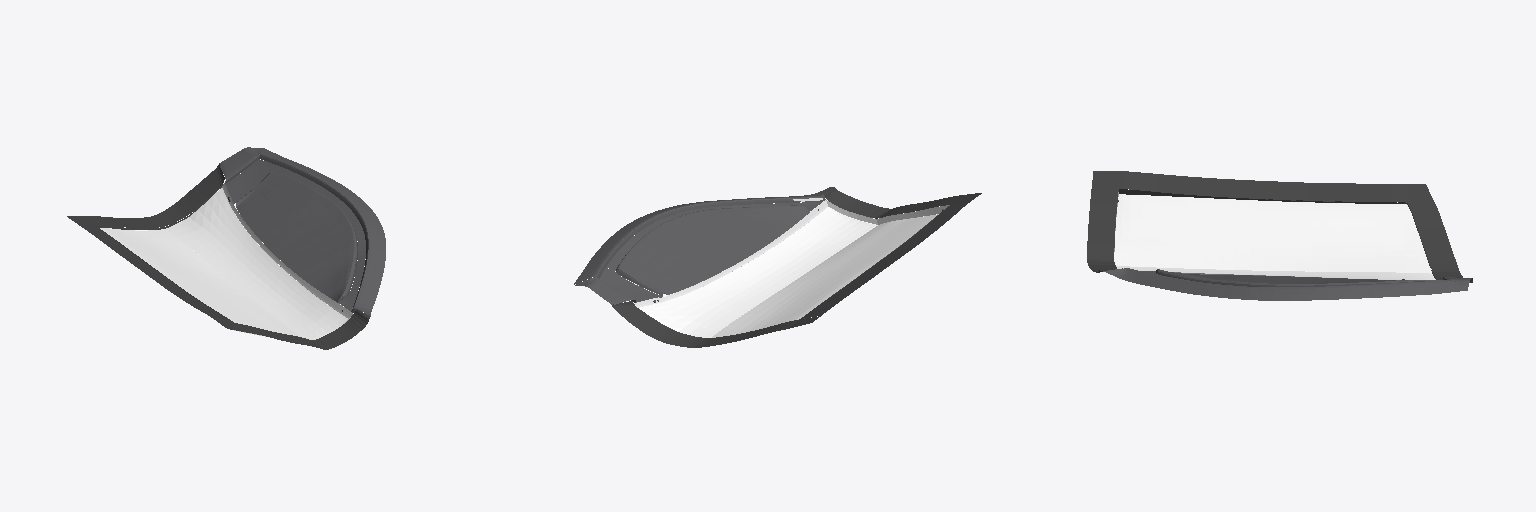
File: Door_Mould_2024.obj
3 views of the same model, side by side, from view 1: azimuth 30°, elevation 25°; view 2: azimuth 150°, elevation 25°; view 3: azimuth 270°, elevation 25° (orthographic).
Visible parts, largest first — view 1: Door_Window_Frame_Flange_3, left_door_upper_Mesh_Conform, Door_mid_Mesh_Conform, Door_Window_Frame_Flange_2, Flange_Mesh_Rear_1, Flange_Mesh_Front_1, Flange_Mesh_Bottom_1, Window_Cill_Mesh_, Window_R_Support_Spline_Mesh_1, Door_top_Mesh_Conform, Door_Window_Frame_Flange_4; view 2: Door_Window_Frame_Flange_3, left_door_upper_Mesh_Conform, Door_mid_Mesh_Conform, Door_Window_Frame_Flange_2, Flange_Mesh_Rear_1, Flange_Mesh_Bottom_1, Flange_Mesh_Front_1, Door_top_Mesh_Conform, Window_Cill_Mesh_, Window_R_Support_Spline_Mesh_1, Front_Edge_Mesh_1, Door_Window_Frame_Flange_4; view 3: Door_mid_Mesh_Conform, Flange_Mesh_Bottom_1, Door_Window_Frame_Flange_2, Flange_Mesh_Front_1, Flange_Mesh_Rear_1, Door_Window_Frame_Flange_3, left_door_upper_Mesh_Conform, Bottom_Edge_Spline_Mesh_4.
Boxes of the visible parts, x1,y1,x2,y2 form: Door_Window_Frame_Flange_3: [236, 171, 357, 302]; left_door_upper_Mesh_Conform: [165, 187, 347, 339]; Door_mid_Mesh_Conform: [100, 228, 311, 346]; Door_Window_Frame_Flange_2: [259, 148, 385, 316]; Flange_Mesh_Rear_1: [67, 164, 224, 227]; Flange_Mesh_Front_1: [216, 309, 369, 349]; Flange_Mesh_Bottom_1: [77, 223, 233, 322]; Window_Cill_Mesh_: [276, 167, 365, 299]; Window_R_Support_Spline_Mesh_1: [225, 159, 279, 203]; Door_top_Mesh_Conform: [222, 183, 352, 318]; Door_Window_Frame_Flange_4: [219, 147, 261, 183]; Door_Window_Frame_Flange_3: [615, 205, 809, 295]; left_door_upper_Mesh_Conform: [639, 207, 877, 337]; Door_mid_Mesh_Conform: [712, 214, 938, 337]; Door_Window_Frame_Flange_2: [574, 187, 829, 284]; Flange_Mesh_Rear_1: [612, 301, 820, 347]; Flange_Mesh_Bottom_1: [801, 202, 969, 318]; Flange_Mesh_Front_1: [824, 187, 981, 218]; Door_top_Mesh_Conform: [635, 200, 827, 307]; Window_Cill_Mesh_: [607, 203, 800, 271]; Window_R_Support_Spline_Mesh_1: [600, 267, 662, 302]; Front_Edge_Mesh_1: [826, 200, 949, 224]; Door_Window_Frame_Flange_4: [575, 277, 635, 304]; Door_mid_Mesh_Conform: [1114, 194, 1431, 273]; Flange_Mesh_Bottom_1: [1119, 171, 1406, 202]; Door_Window_Frame_Flange_2: [1103, 268, 1467, 300]; Flange_Mesh_Front_1: [1087, 171, 1122, 272]; Flange_Mesh_Rear_1: [1407, 184, 1472, 282]; Door_Window_Frame_Flange_3: [1156, 269, 1413, 286]; left_door_upper_Mesh_Conform: [1116, 266, 1435, 279]; Bottom_Edge_Spline_Mesh_4: [1119, 189, 1406, 203].
Bounding box in the file's own units: 1.04 × 0.2054 × 1.43.